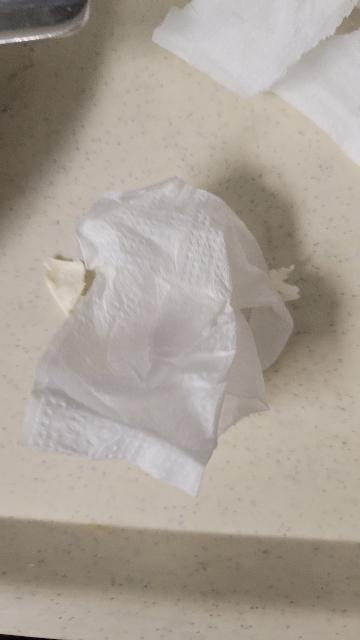Kagit: (16, 181, 302, 496)
